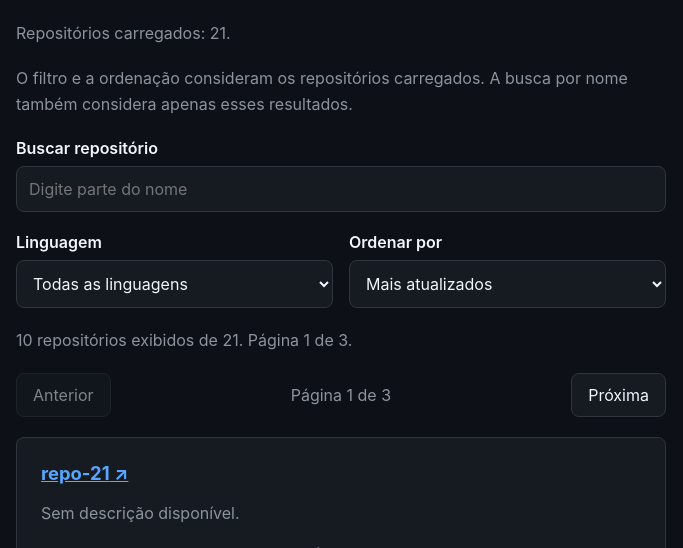
Test: limpa a busca por nome ao pesquisar o perfil bob novamente
This screenshot has width=683, height=548.
(page scrolled)
Step 1. Type "repo-01" into the search field → (341, 189), box left=16, top=166, right=666, bottom=212
(page scrolled)
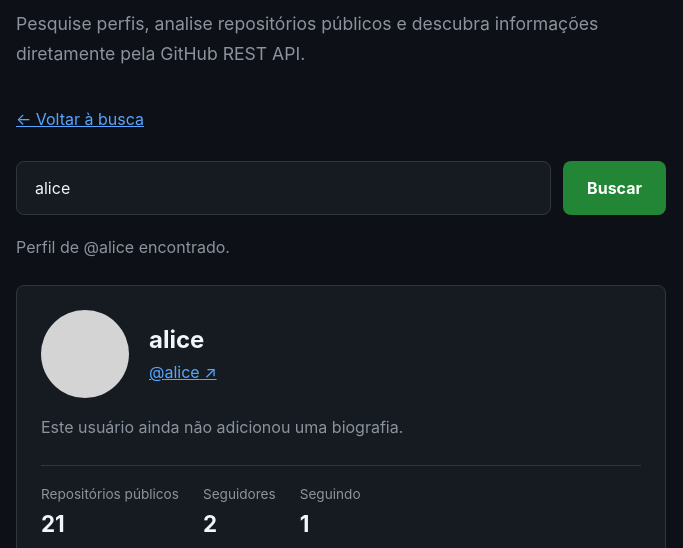
Step 2. Replace the text in the field named "usuário do GitHub" with "bob" → (284, 188), box left=16, top=161, right=551, bottom=215
Then press Enter
(page scrolled)
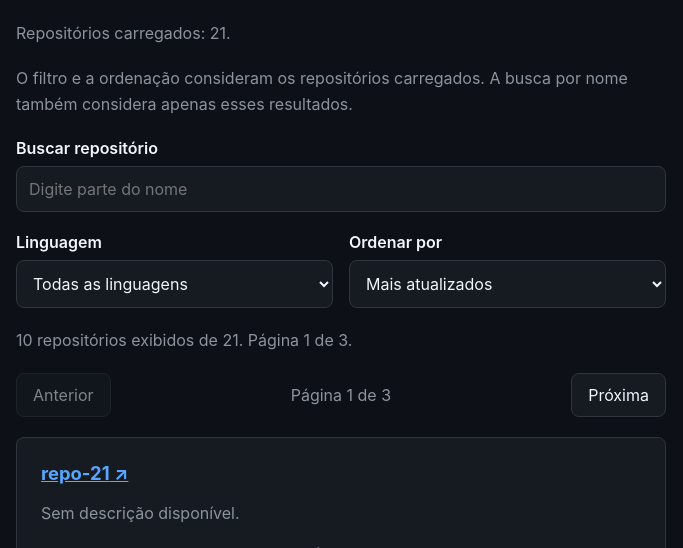
Check: the search field is empty, box left=16, top=166, right=666, bottom=212
Check: the number of list items is 10
